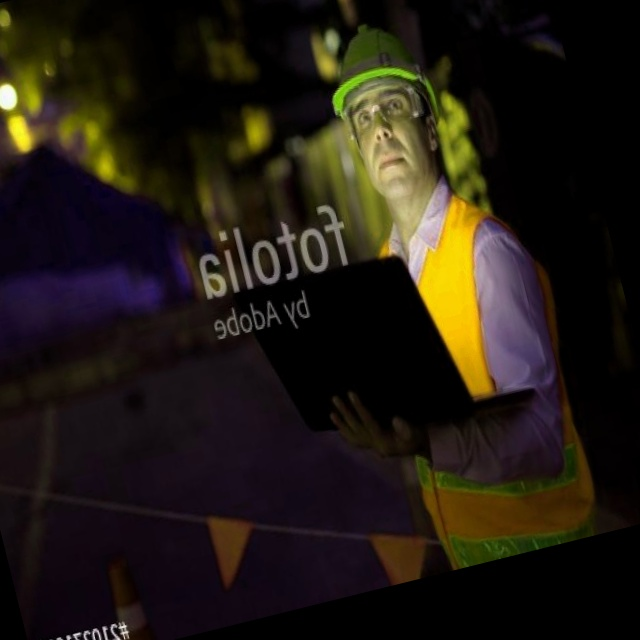Con_Casco: (318, 14, 455, 205)
